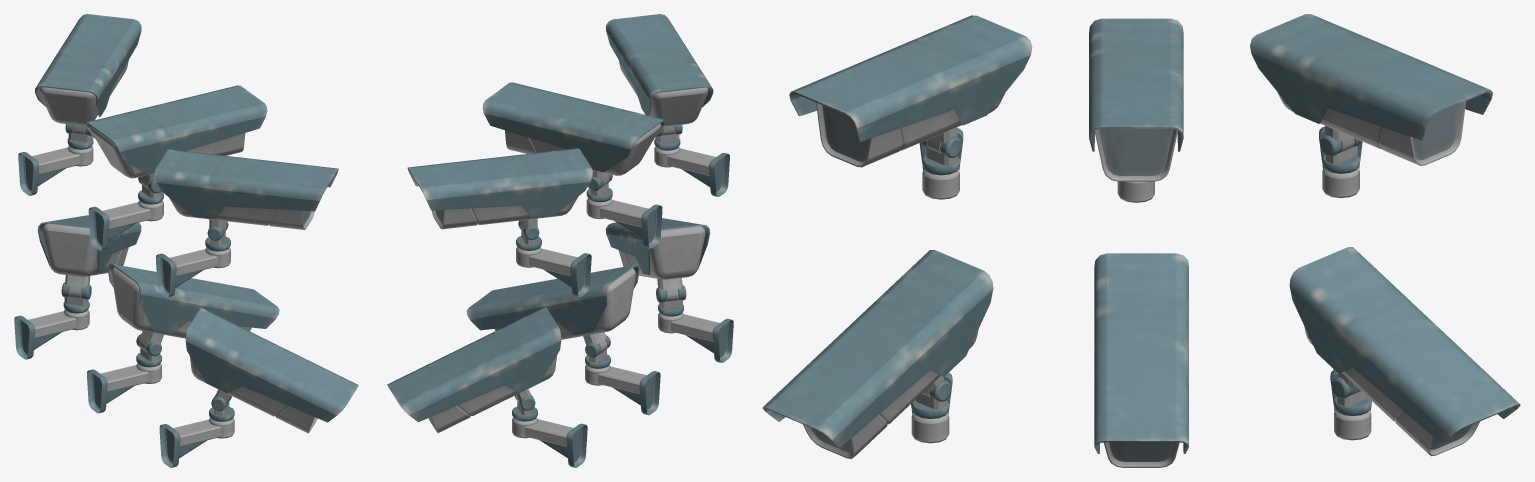
File: yolo.glb
3 views of the same model, side by side, from view 1: azimuth 30°, elevation 25°; view 2: azimuth 150°, elevation 25°; view 3: azimuth 270°, elevation 25° (orthographic). The views are drawn at different scales.
Parts seen in each view (by area): view 1: Camera_5, Camera_6, Camera_1, Camera_3, Camera_2, Camera_4; view 2: Camera_4, Camera_3, Camera_1, Camera_6, Camera_2, Camera_5; view 3: Camera_5, Camera_4, Camera_6, Camera_3, Camera_2, Camera_1.
Boxes of the visible parts, x1=… form: Camera_5: x1=159, y1=308, x2=358, y2=467; Camera_6: x1=154, y1=149, x2=338, y2=297; Camera_1: x1=86, y1=85, x2=267, y2=250; Camera_3: x1=18, y1=14, x2=141, y2=195; Camera_2: x1=87, y1=263, x2=279, y2=413; Camera_4: x1=14, y1=215, x2=141, y2=359; Camera_4: x1=387, y1=307, x2=587, y2=467; Camera_3: x1=407, y1=148, x2=592, y2=297; Camera_1: x1=482, y1=82, x2=665, y2=248; Camera_6: x1=606, y1=14, x2=729, y2=196; Camera_2: x1=466, y1=264, x2=660, y2=415; Camera_5: x1=606, y1=218, x2=733, y2=362; Camera_5: x1=762, y1=250, x2=993, y2=459; Camera_4: x1=1289, y1=247, x2=1520, y2=456; Camera_6: x1=789, y1=15, x2=1032, y2=199; Camera_3: x1=1250, y1=14, x2=1492, y2=198; Camera_2: x1=1094, y1=253, x2=1188, y2=467; Camera_1: x1=1089, y1=18, x2=1183, y2=202.
Size of the model in its own units: 0.5334 by 0.8447 by 1.4.
1 material, 1 textured.
